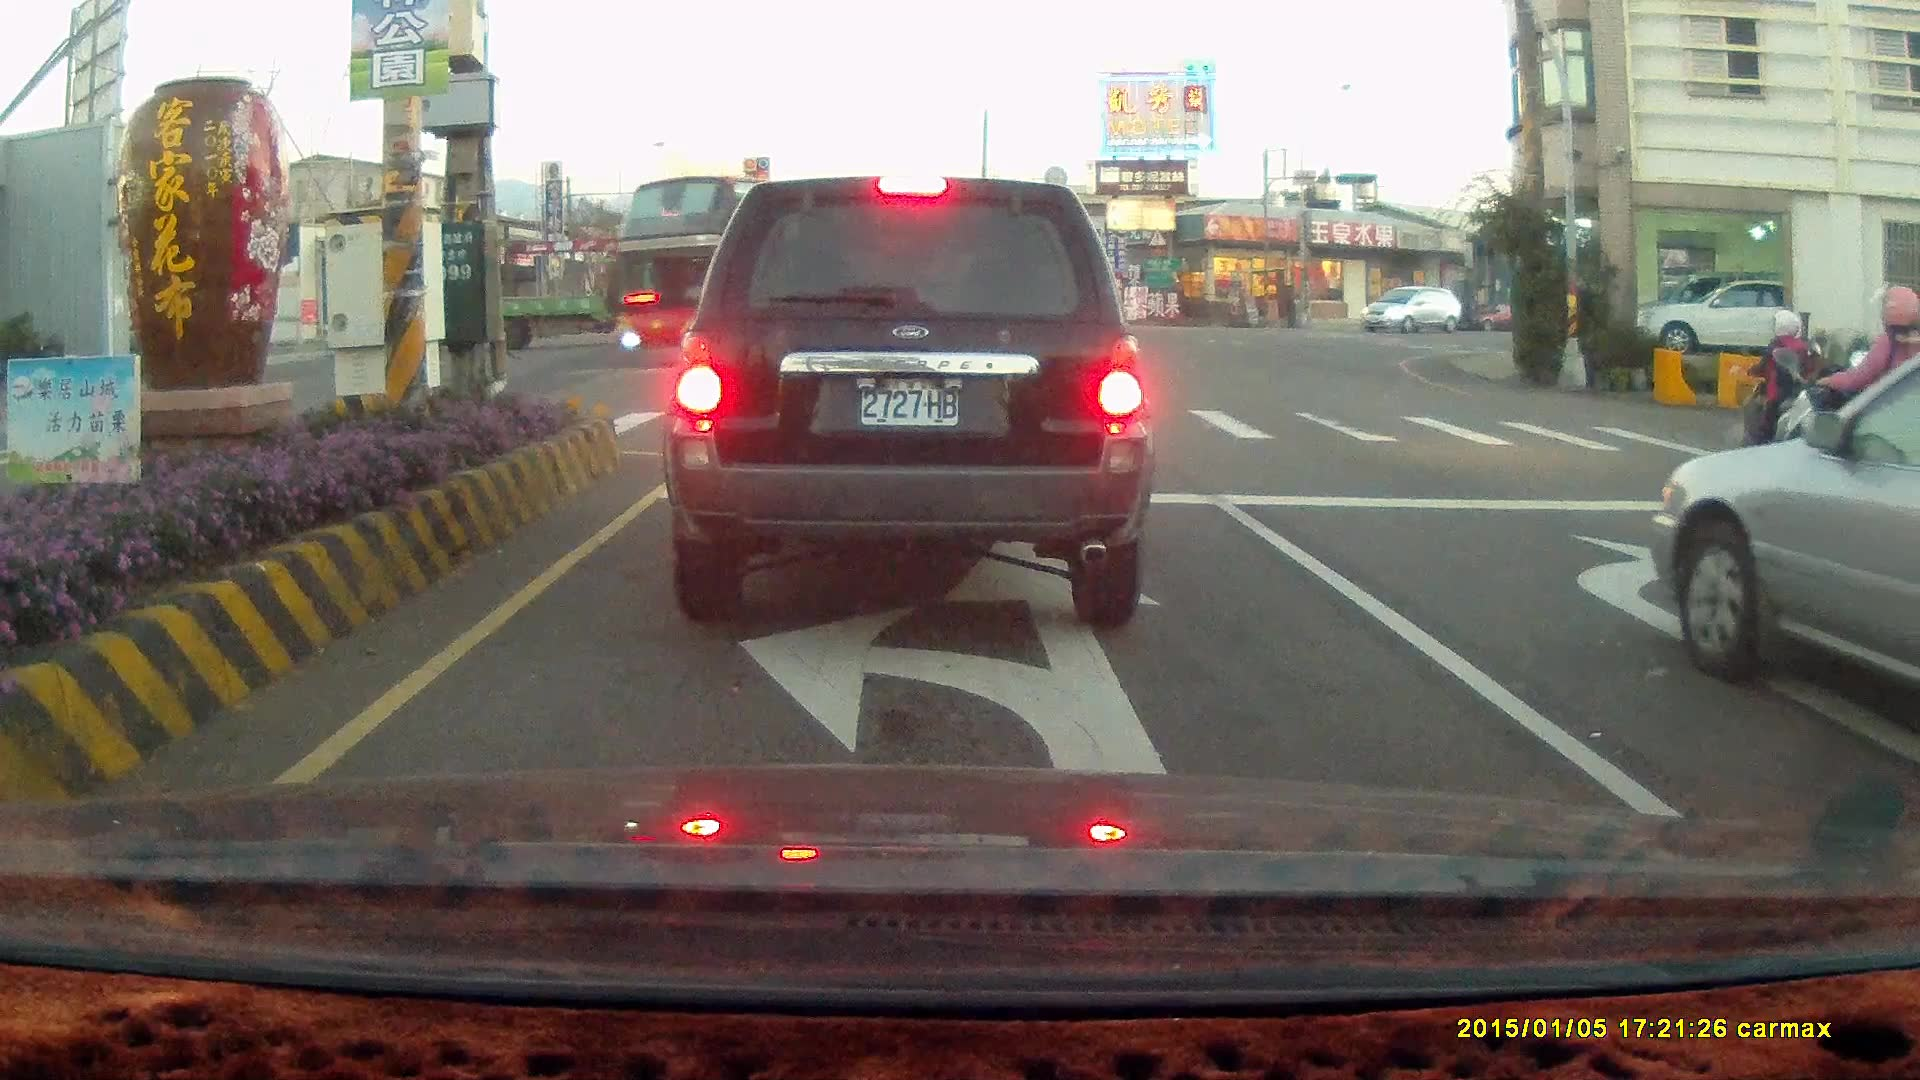rider: (1778, 282, 1919, 549), (1728, 308, 1827, 475)
vehicle: (659, 173, 1155, 630), (1641, 350, 1920, 734), (1654, 356, 1920, 708), (501, 254, 690, 347), (1629, 275, 1837, 357), (1642, 275, 1784, 356), (1896, 493, 1920, 836), (1361, 287, 1466, 339)
